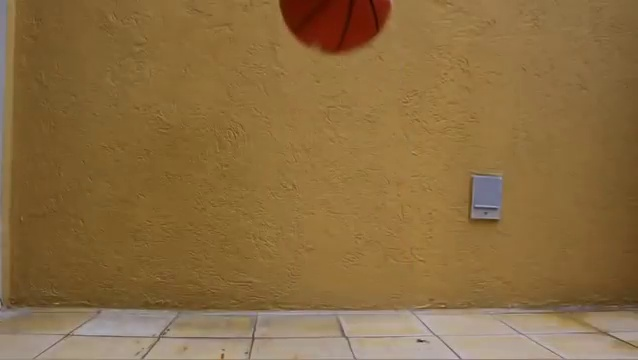ball: (277, 1, 395, 53)
